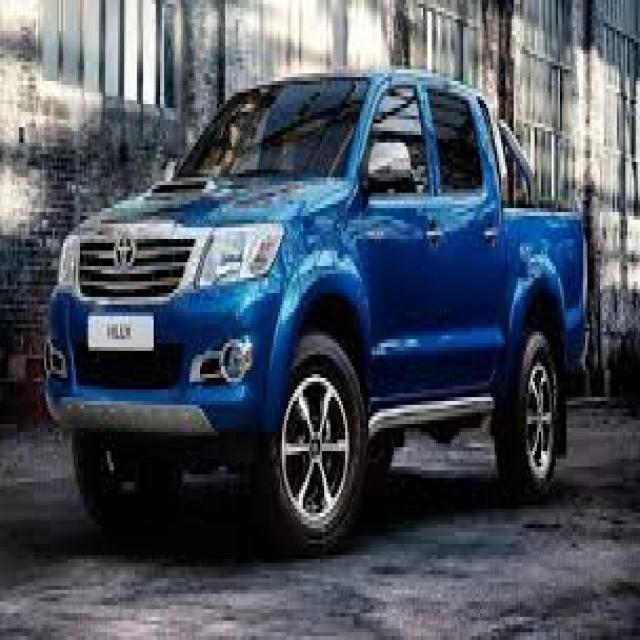Pickup Trucks: (45, 73, 588, 559)
